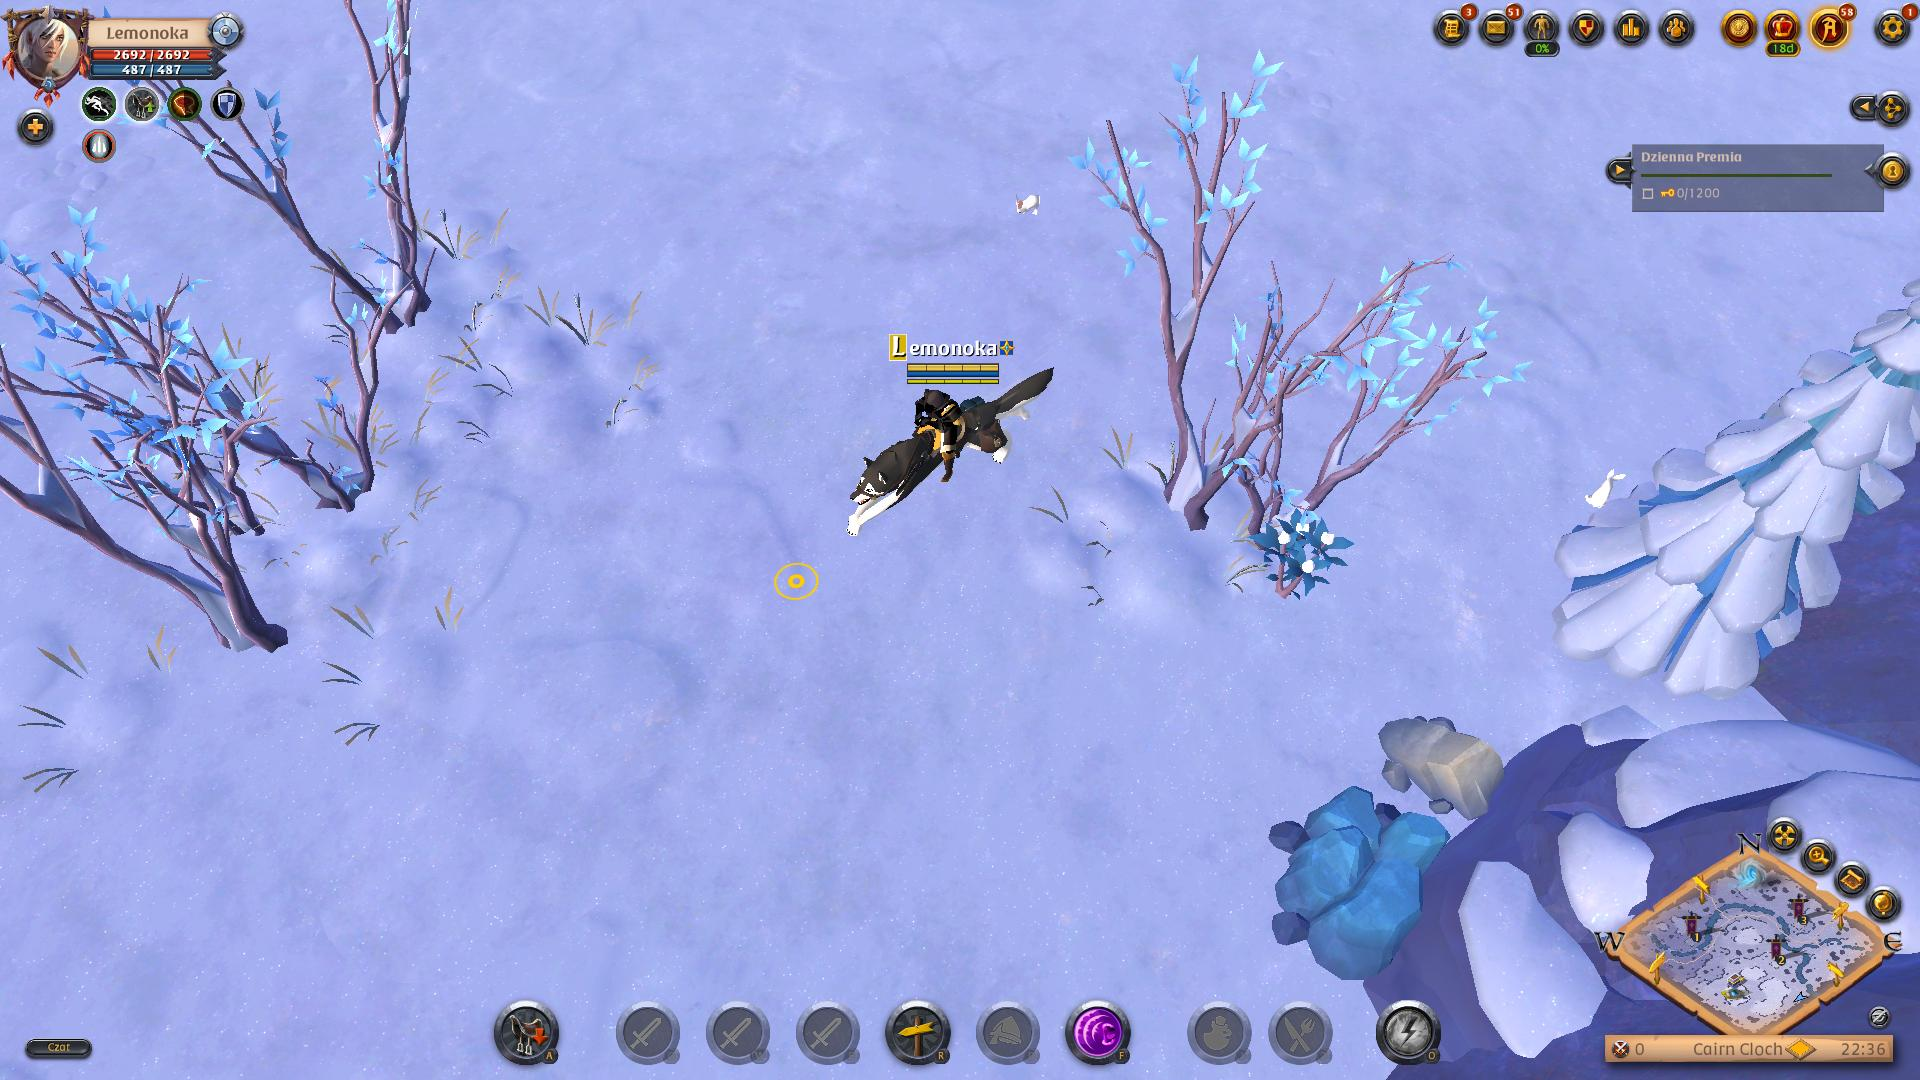fiber tier 4: (1258, 500, 1348, 611)
rock tier 1: (1375, 708, 1505, 815)
rock tier 4: (1267, 783, 1444, 972)
